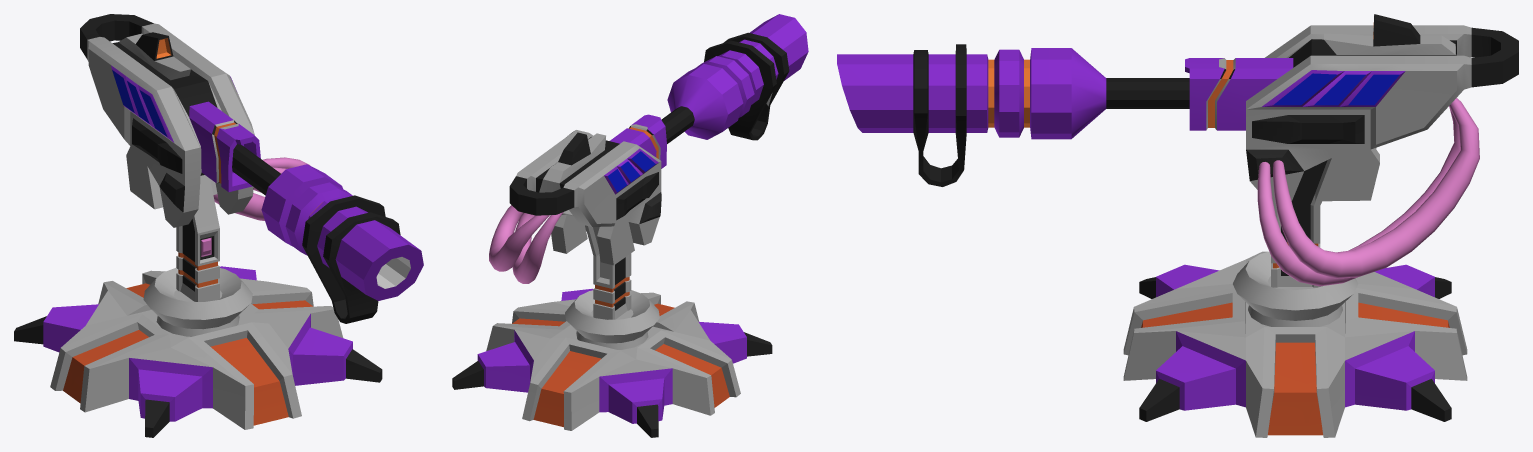
The model's file is Turret.fbx.
The picture shows the model from 3 angles, left to right: view 1: azimuth 30°, elevation 25°; view 2: azimuth 150°, elevation 25°; view 3: azimuth 270°, elevation 25°; orthographic projection. The views are drawn at different scales.
Visible parts, largest first — view 1: Cube.002, Cylinder, Cylinder.001; view 2: Cube.002, Cylinder, Cylinder.001; view 3: Cube.002, Cylinder, Cylinder.001.
Part boxes in pixels (x1,y1,x2,y2): Cube.002: (80,14,423,323); Cylinder: (14,266,382,437); Cylinder.001: (143,268,252,336); Cube.002: (489,14,808,319); Cylinder: (452,288,772,437); Cylinder.001: (565,290,659,349); Cube.002: (837,14,1518,287); Cylinder: (1123,251,1467,437); Cylinder.001: (1233,251,1357,326).
Size of the model in its own units: 265 by 299 by 526.
